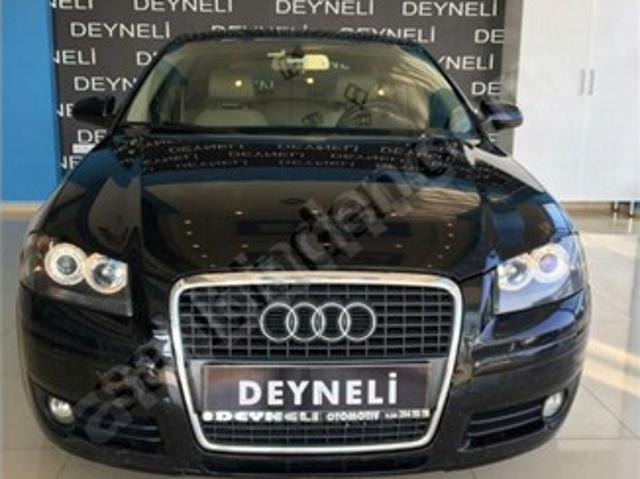audi: (254, 296, 382, 347)
